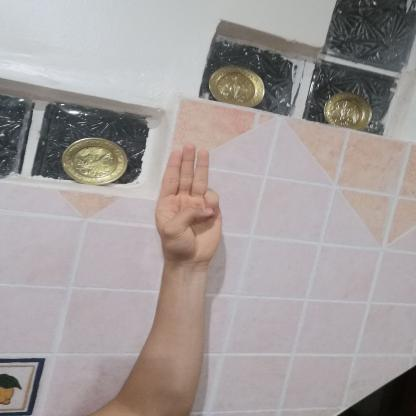THA: (144, 136, 232, 272)
